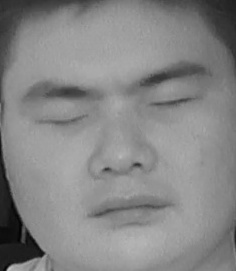blink: (37, 103, 89, 137), (152, 86, 199, 117)
mouth: (84, 188, 169, 230)
